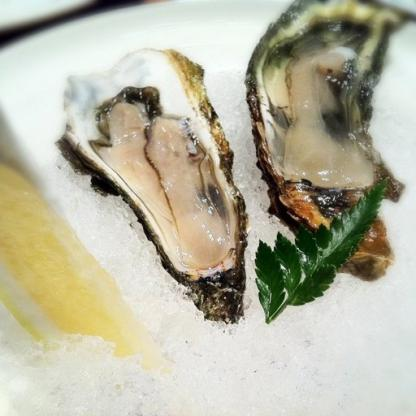oyster: (68, 54, 254, 318), (245, 0, 397, 233)
